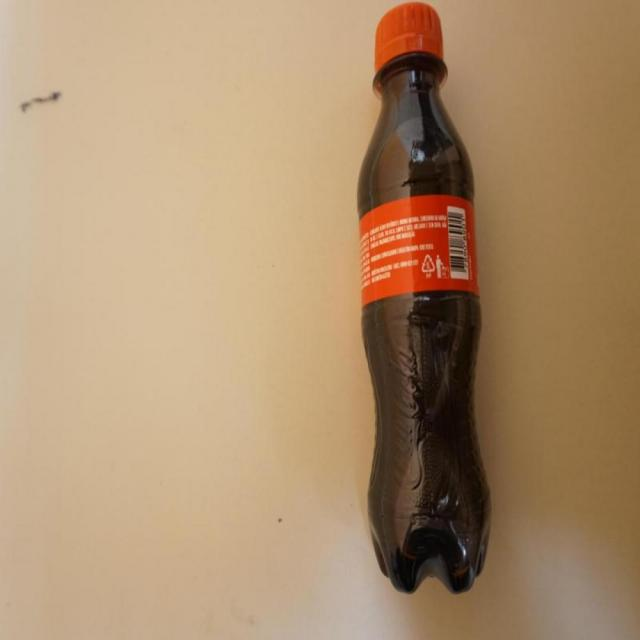Coke: (356, 4, 493, 595)
